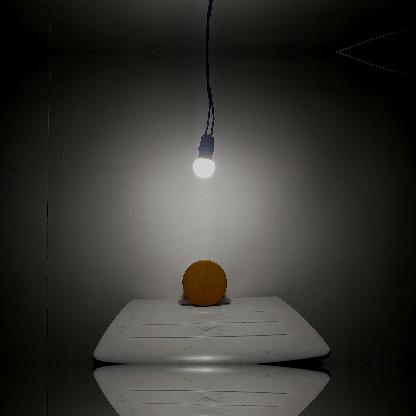Lady-s-Choice: (181, 260, 226, 306)
